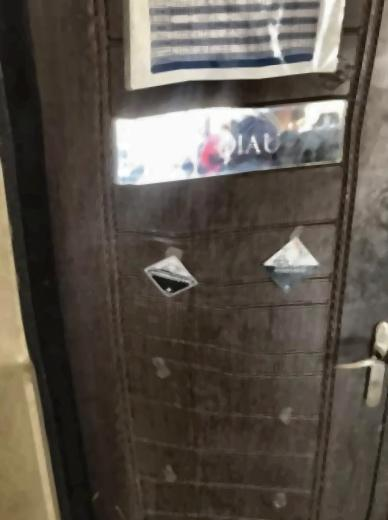corrosive: (262, 233, 322, 300), (141, 251, 199, 302)
